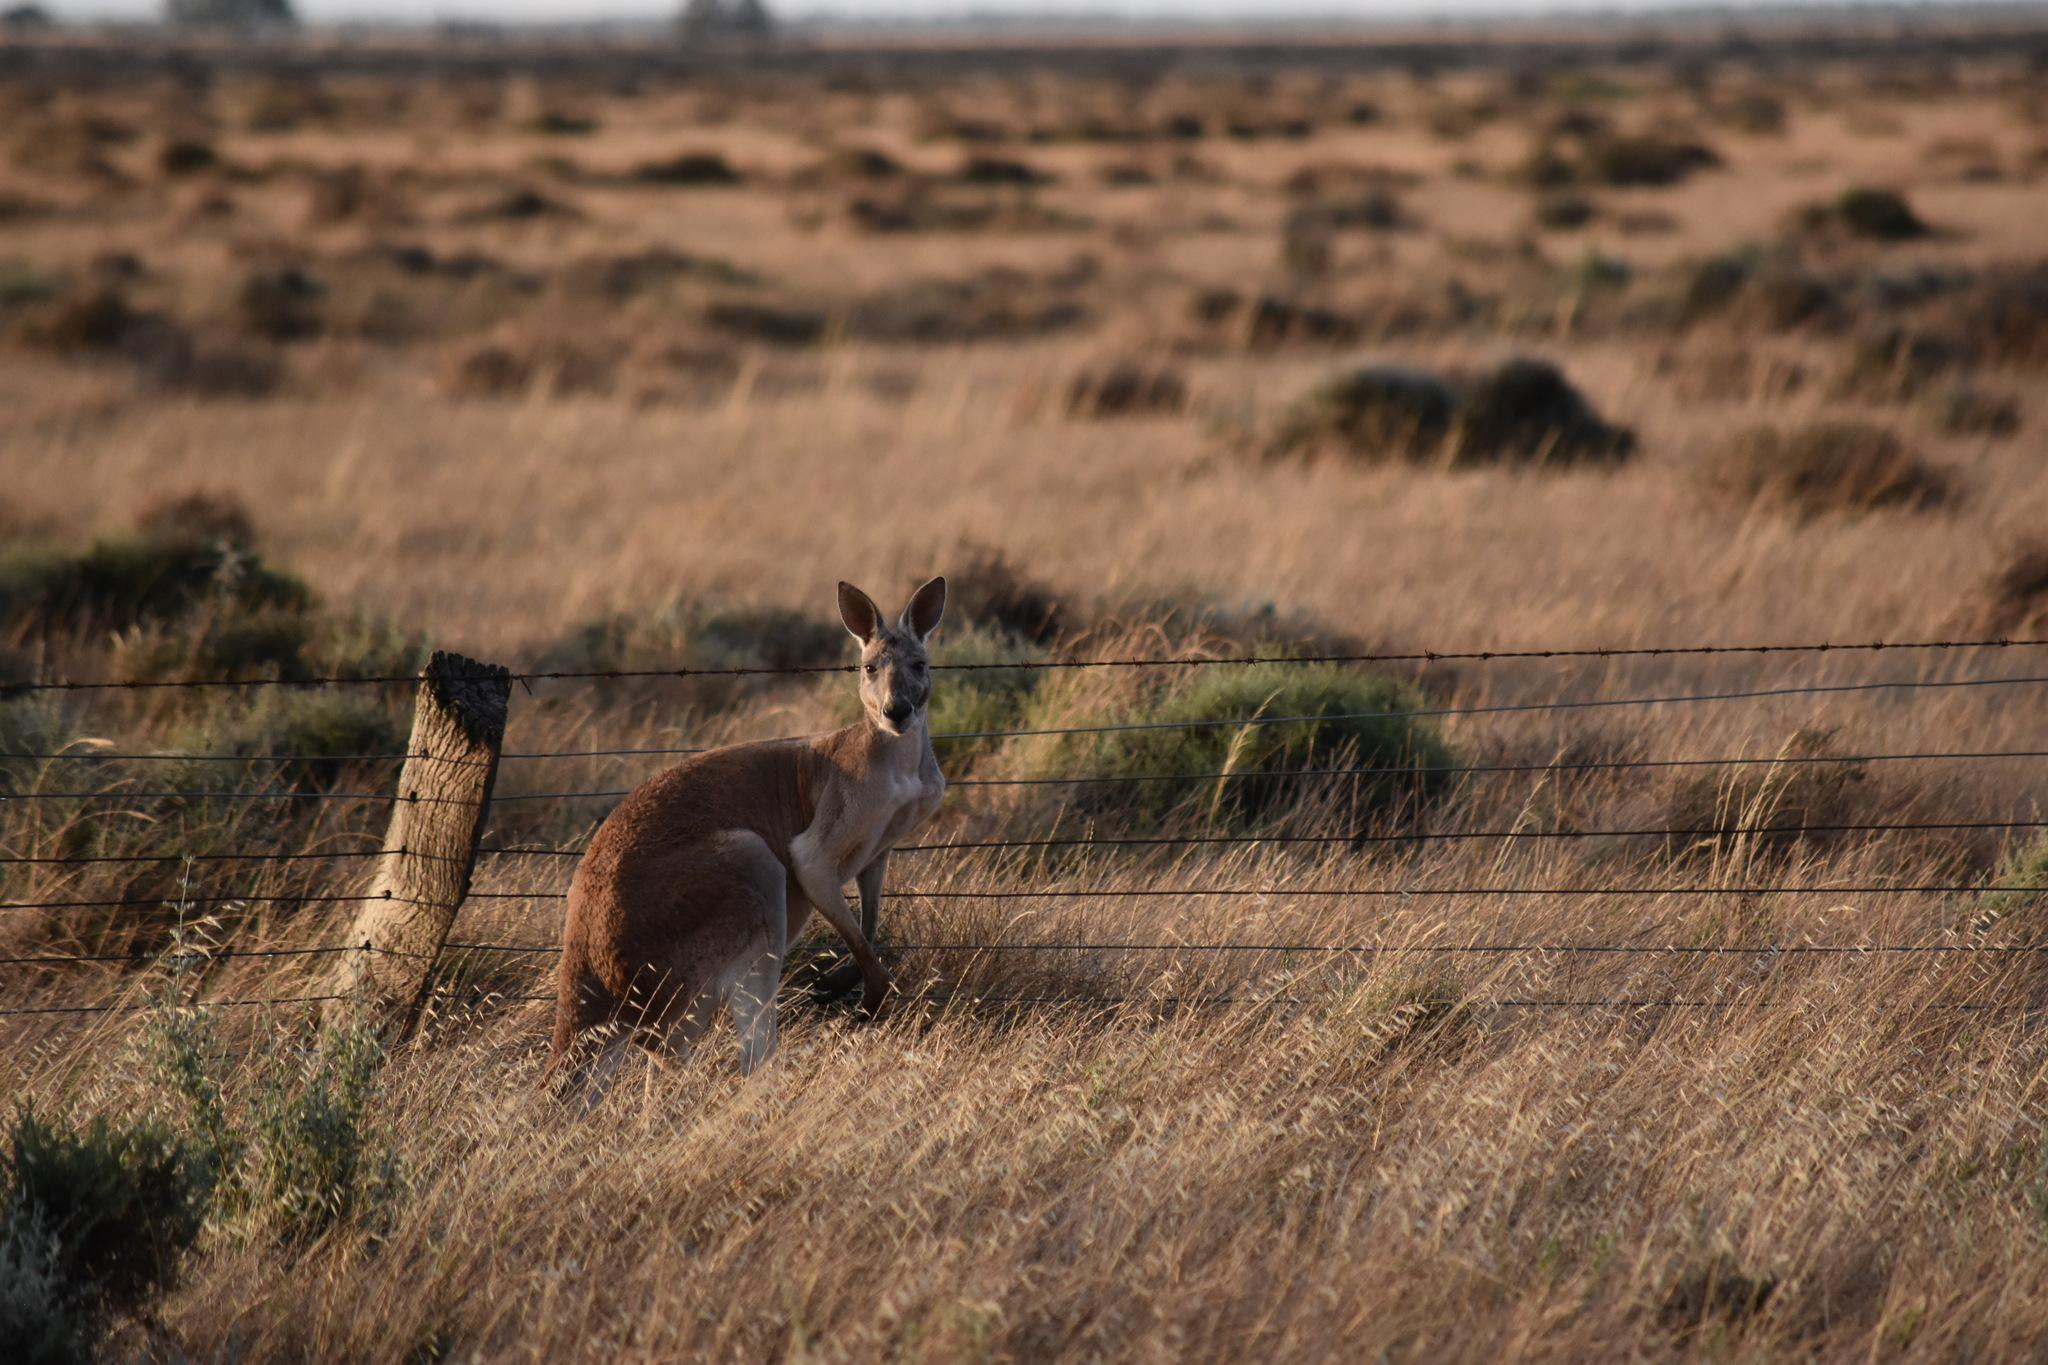Red kangaroo: (518, 567, 956, 1098)
